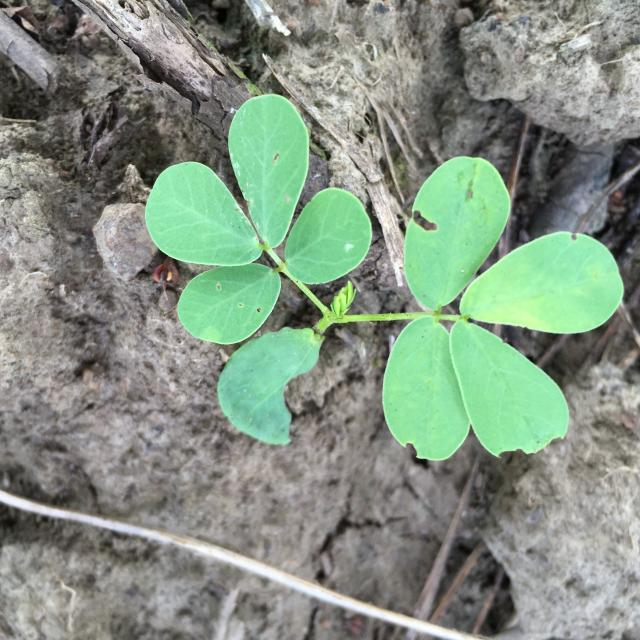Sicklepod: (146, 93, 624, 462)
